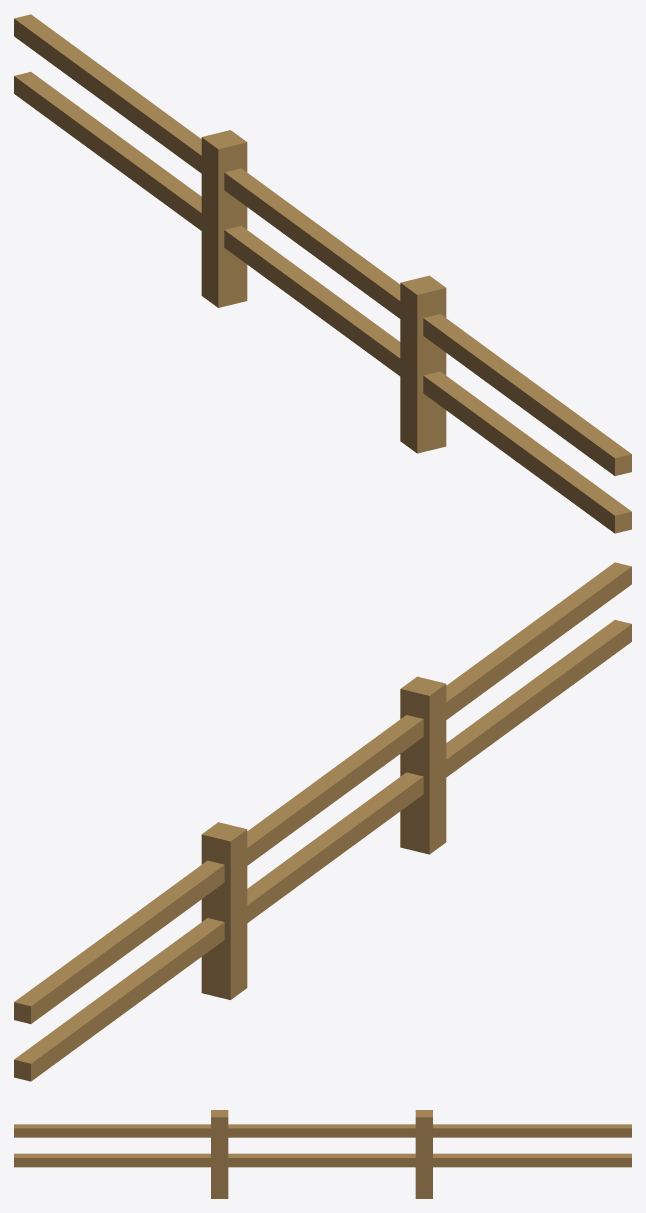
Rendered from обе.fbx.
3 renders of one model, top to bottom at view 1: azimuth 30°, elevation 25°; view 2: azimuth 150°, elevation 25°; view 3: azimuth 270°, elevation 25°, orthographic. The views are drawn at different scales.
Visible parts, largest first — view 1: Cube.006, Cube.007, Cube.001, Cube, Cube.004, Cube.005, Cube.003, Cube.002; view 2: Cube.004, Cube.005, Cube, Cube.001, Cube.007, Cube.006, Cube.002, Cube.003; view 3: Cube.005, Cube.006, Cube.002, Cube.004, Cube.007, Cube.003, Cube, Cube.001.
Boxes of the visible parts, x1,y1,x2,y2 form: Cube.006: (423,371,631,533); Cube.007: (423,314,631,475); Cube.001: (201,130,247,307); Cube: (400,275,446,453); Cube.004: (14,14,201,173); Cube.005: (14,72,201,230); Cube.003: (224,168,400,318); Cube.002: (224,225,400,375); Cube.004: (14,860,224,1023); Cube.005: (14,918,224,1081); Cube: (400,676,446,854); Cube.001: (201,822,247,999); Cube.007: (446,562,631,719); Cube.006: (446,620,631,777); Cube.002: (247,772,423,922); Cube.003: (247,715,423,865); Cube.005: (433,1153,631,1167); Cube.006: (14,1153,210,1167); Cube.002: (228,1153,415,1167); Cube.004: (433,1124,631,1137); Cube.007: (14,1124,210,1137); Cube.003: (228,1124,415,1137); Cube: (211,1110,228,1198); Cube.001: (415,1110,432,1198).
Bounding box in the file's own units: 36.16 × 188 × 1294.
